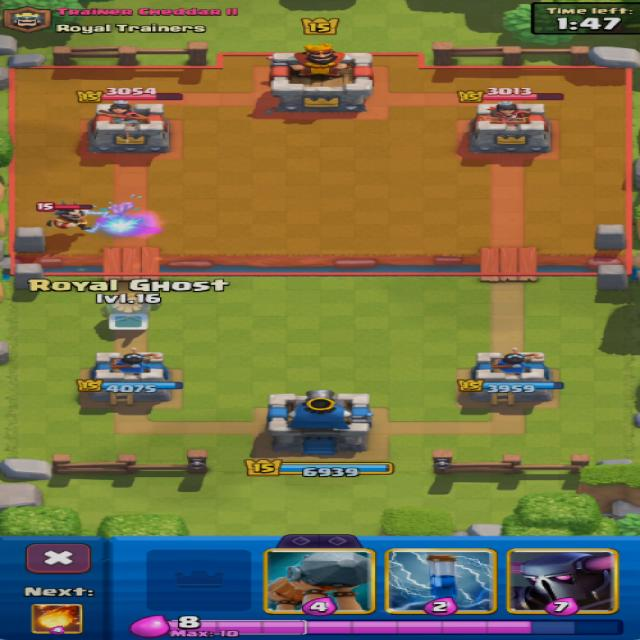Enemy-ElectroWizard: (47, 209, 87, 229)
Enemy-KingTower: (270, 45, 372, 113)
Enemy-PrincessTower: (90, 101, 169, 152), (470, 102, 550, 152)
